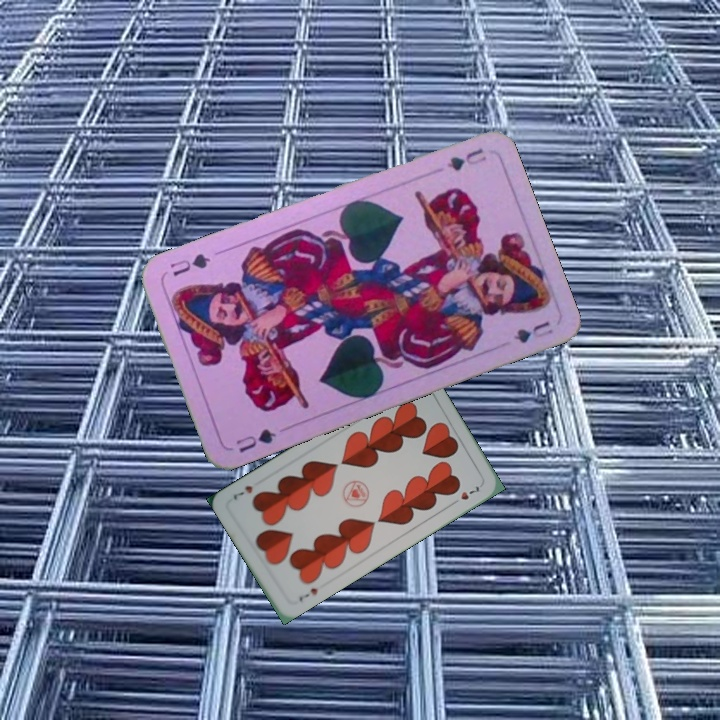GU: (231, 424, 279, 456), (443, 143, 489, 174)
H7: (295, 584, 320, 604)
